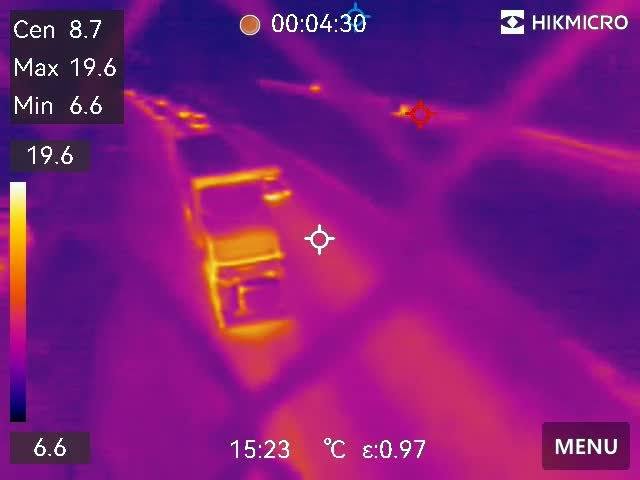heavyTruck: (175, 132, 288, 330)
